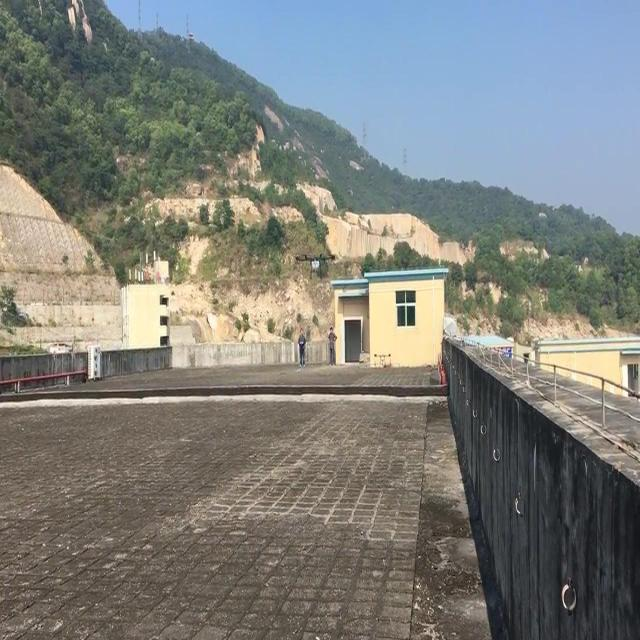drone: (293, 249, 338, 284)
